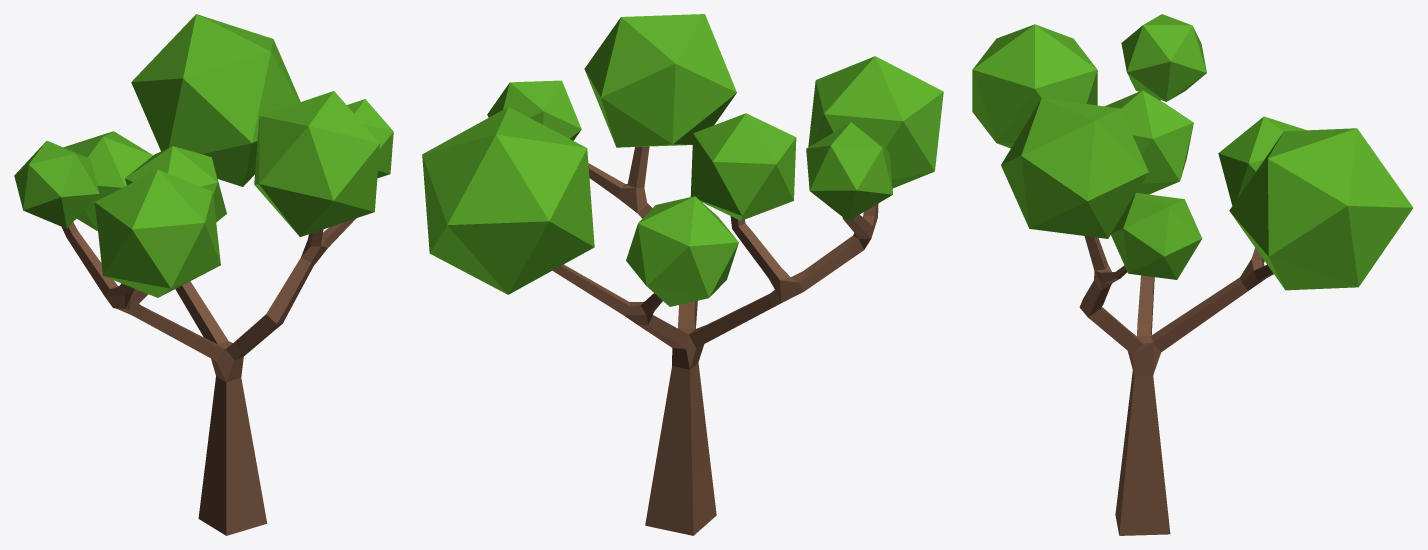
File: tree 1.fbx
The picture shows the model from 3 angles, left to right: view 1: azimuth 30°, elevation 25°; view 2: azimuth 150°, elevation 25°; view 3: azimuth 270°, elevation 25°; orthographic projection. The views are drawn at different scales.
Visible parts, largest first — view 1: tree.001; view 2: tree.001; view 3: tree.001.
Part boxes in pixels (bbox=[...]): tree.001: bbox=[14, 14, 393, 535]; tree.001: bbox=[422, 14, 943, 535]; tree.001: bbox=[972, 14, 1413, 535].
Size of the model in its own units: 187 by 207 by 186.
